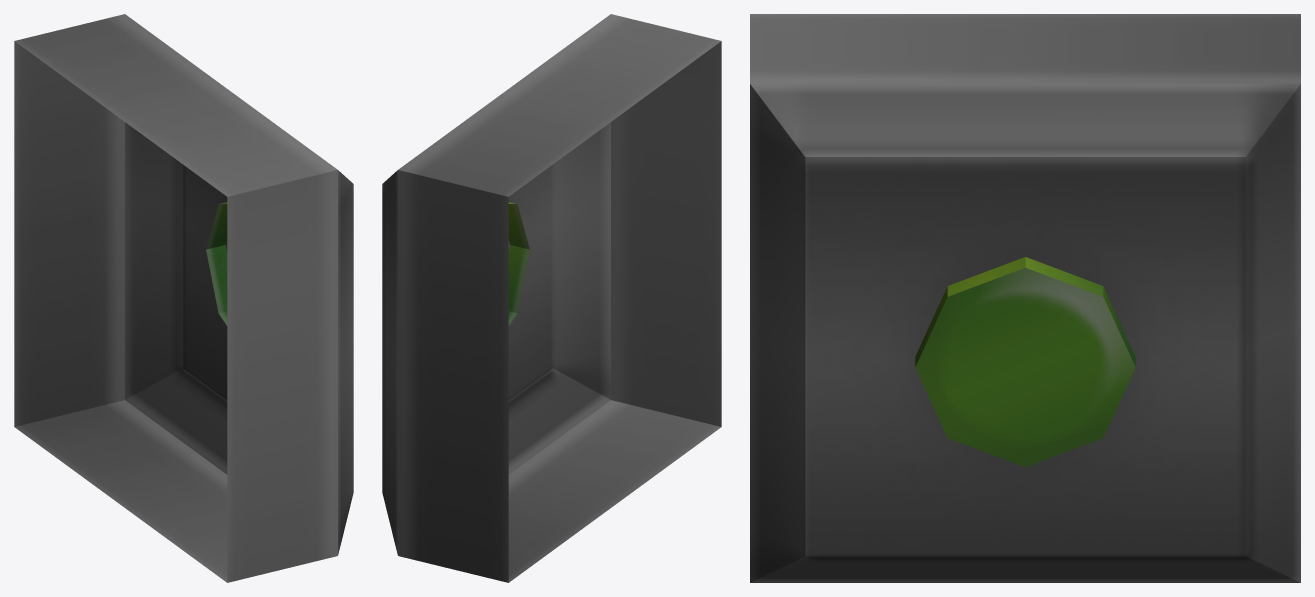
The model's file is button.obj.
3 renders of one model, left to right at view 1: azimuth 30°, elevation 25°; view 2: azimuth 150°, elevation 25°; view 3: azimuth 270°, elevation 25°, orthographic. The views are drawn at different scales.
Parts seen in each view (by area): view 1: Cube_Cube.001; view 2: Cube_Cube.001; view 3: Cube_Cube.001.
Boxes of the visible parts, x1,y1,x2,y2 form: Cube_Cube.001: (14, 14, 353, 582); Cube_Cube.001: (382, 14, 721, 582); Cube_Cube.001: (750, 14, 1300, 582).
Bounding box in the file's own units: 0.4464 × 1 × 1.
